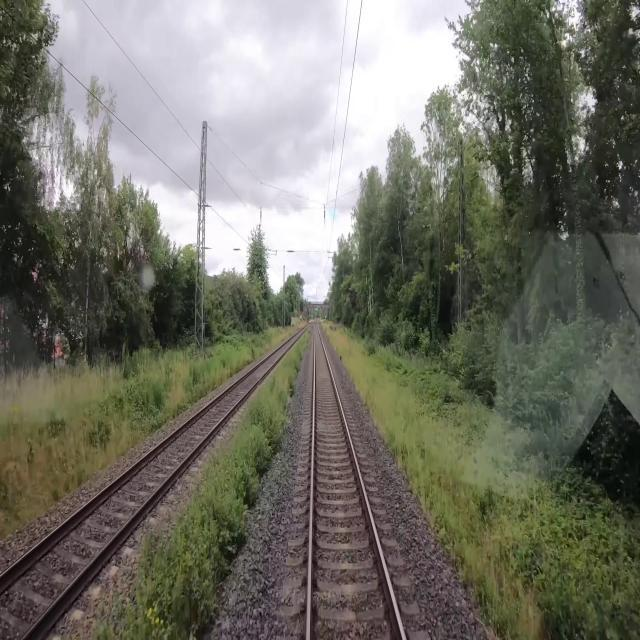Plant: (92, 328, 310, 639)
